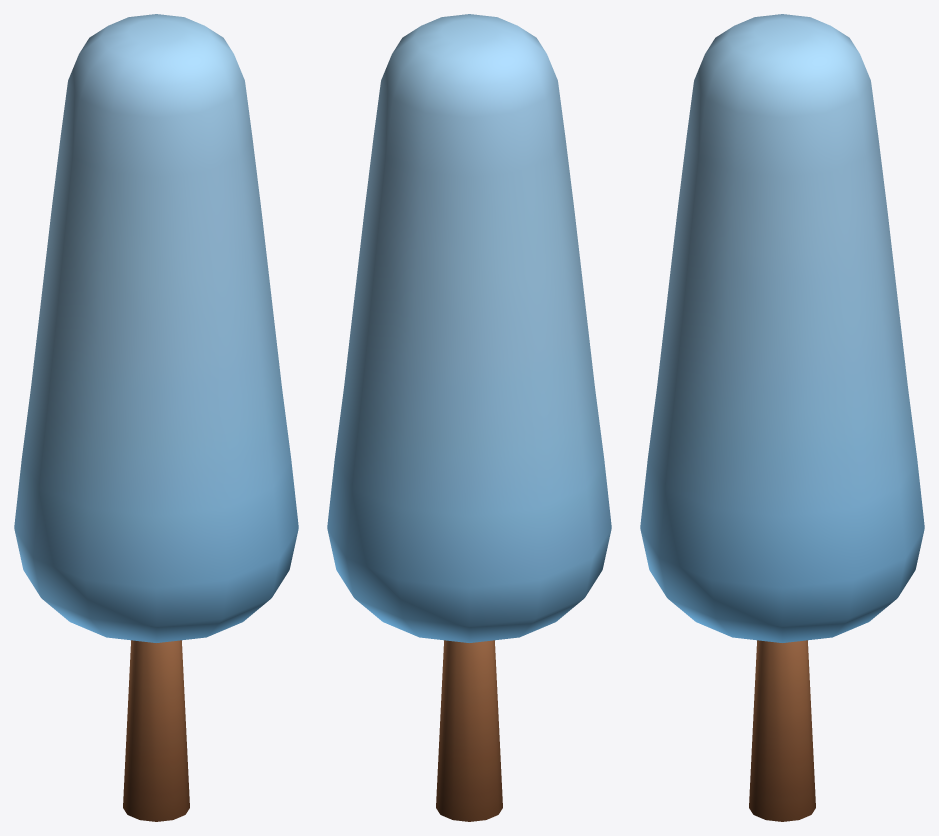
Rendered from lpb_tree_7_d.fbx.
The picture shows the model from 3 angles, left to right: view 1: azimuth 30°, elevation 25°; view 2: azimuth 150°, elevation 25°; view 3: azimuth 270°, elevation 25°; orthographic projection.
Visible parts, largest first — view 1: ap_tree_7.003; view 2: ap_tree_7.003; view 3: ap_tree_7.003.
Part boxes in pixels (x1,y1,x2,y2): ap_tree_7.003: (14,14,298,821); ap_tree_7.003: (327,14,611,821); ap_tree_7.003: (640,14,924,821).
Size of the model in its own units: 171 by 514 by 171.
